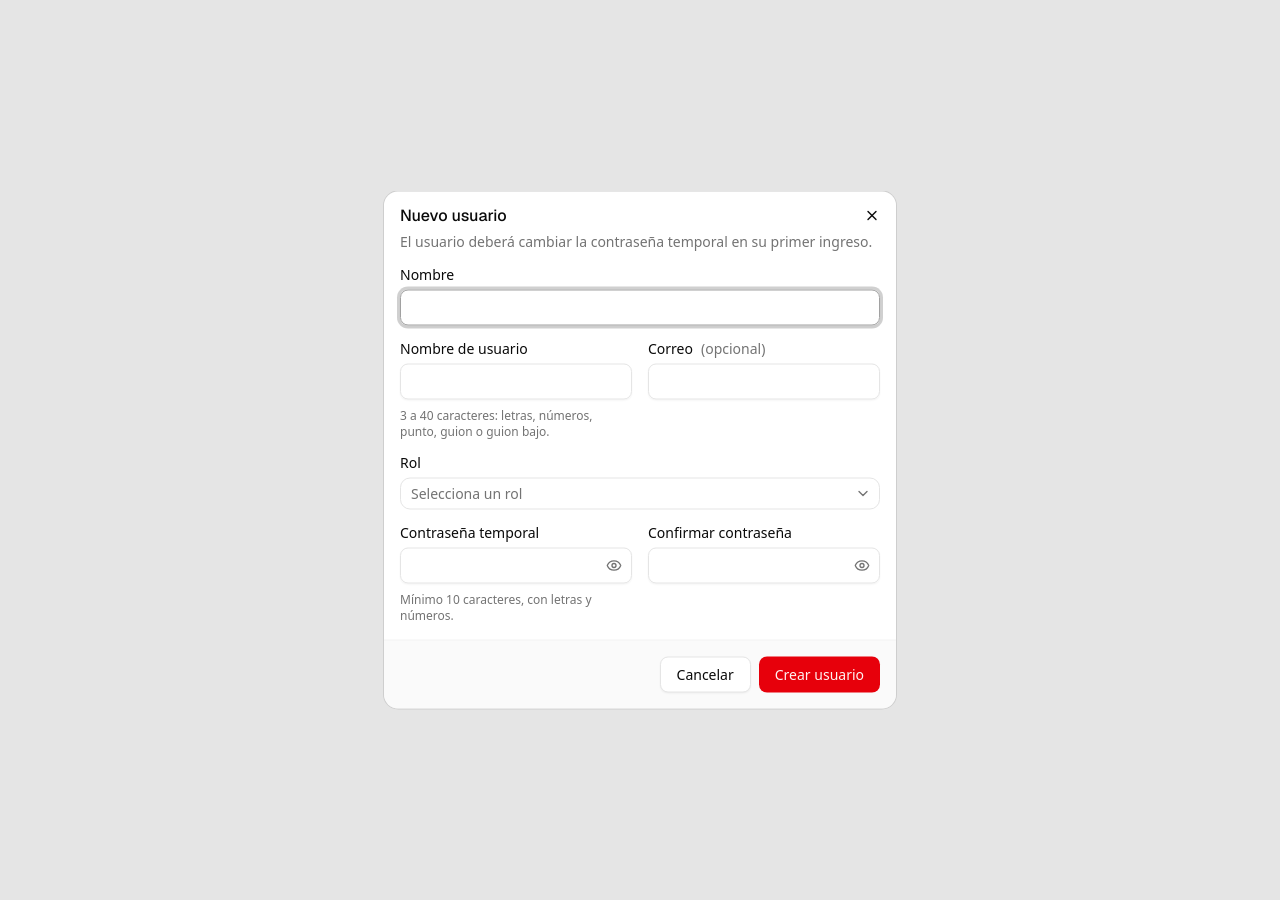
Scenario: UserFormDialog (US2, FR-008, FR-009, RN-013) › exige el rol
In the field labelled "Nombre": (640, 308) [400,290,880,326], type "Juan Pérez"
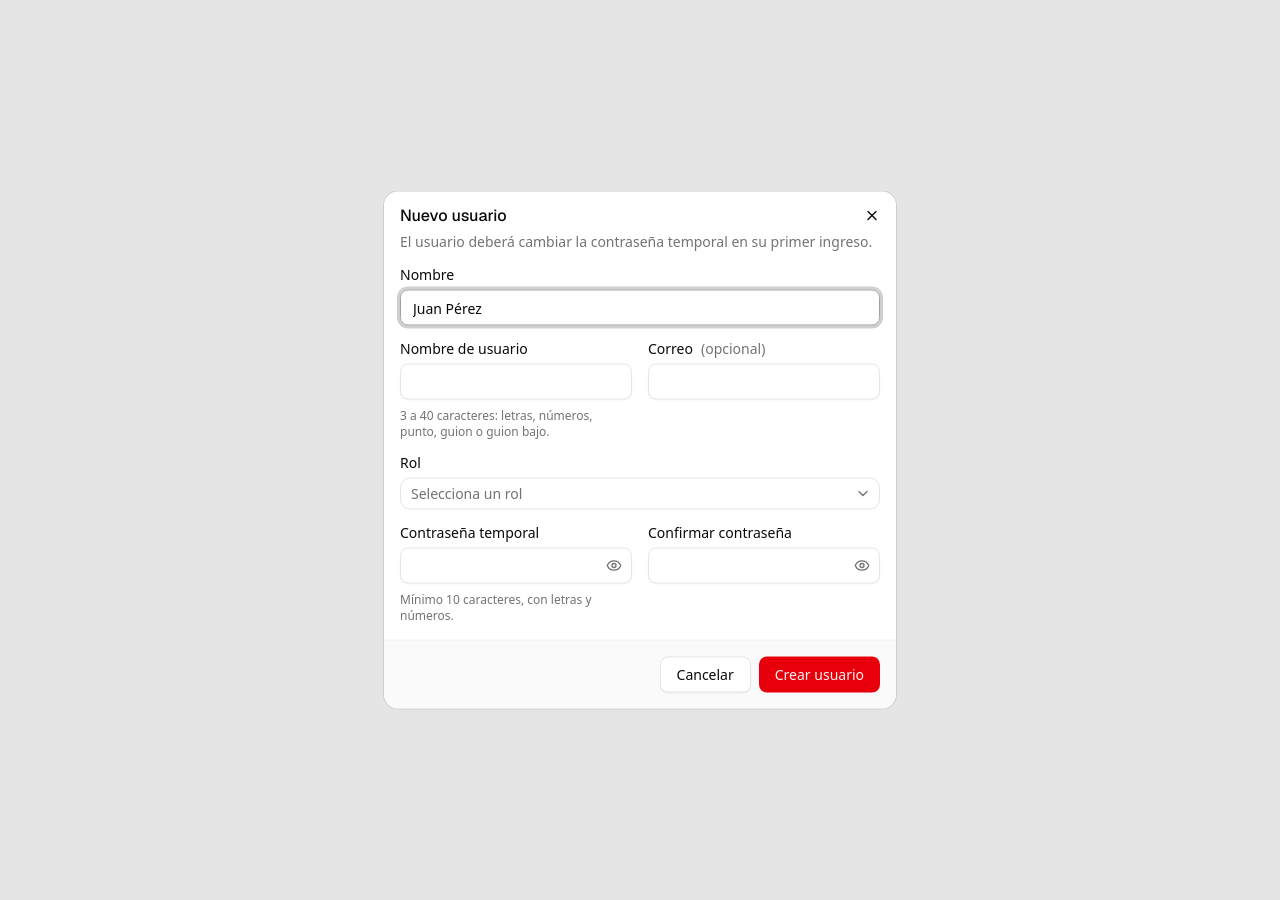
In the field labelled "Nombre de usuario": (516, 382) [400,364,632,400], type "jperez"
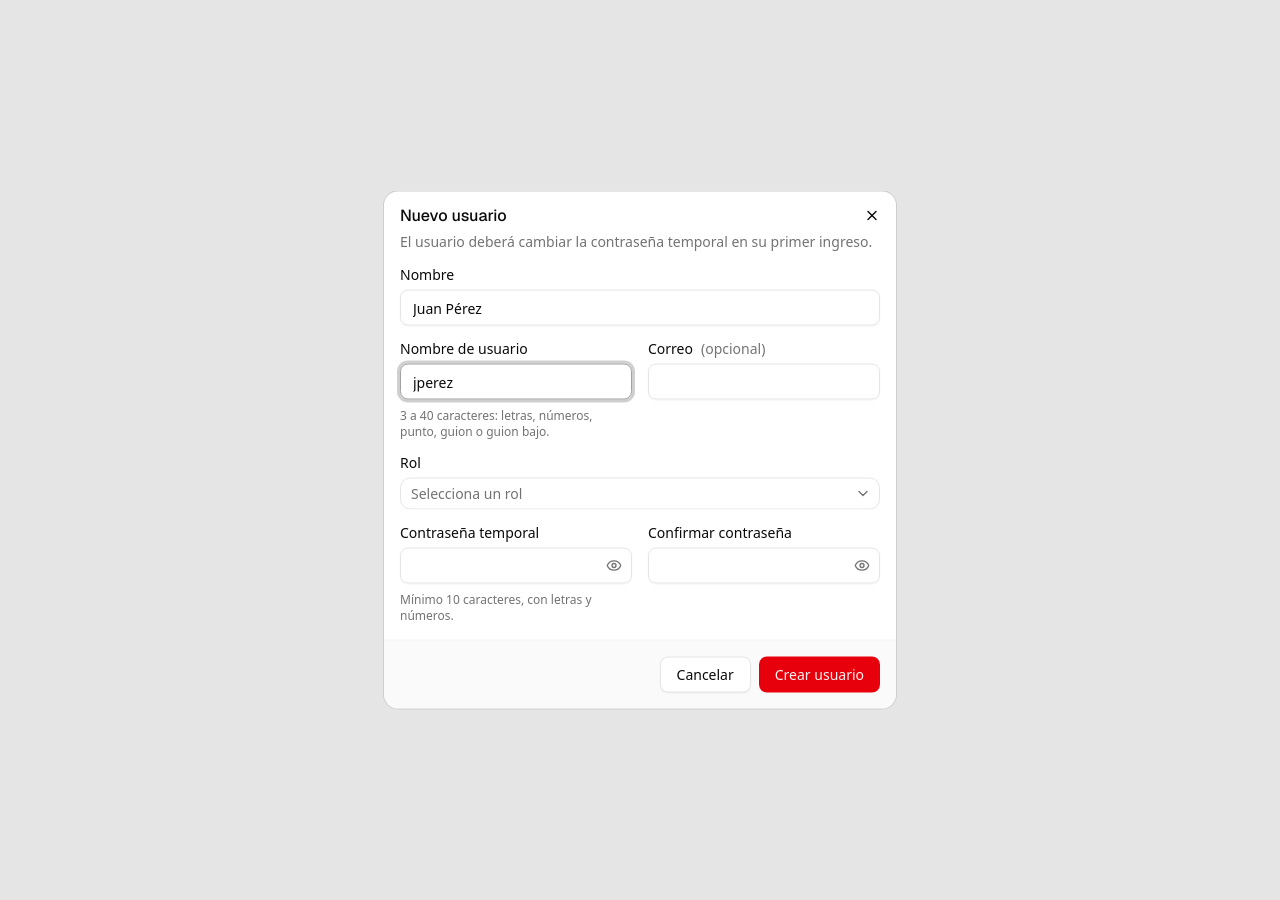
In the password field labelled "Contraseña temporal": (516, 566) [400,548,632,584], type "Temporal123"
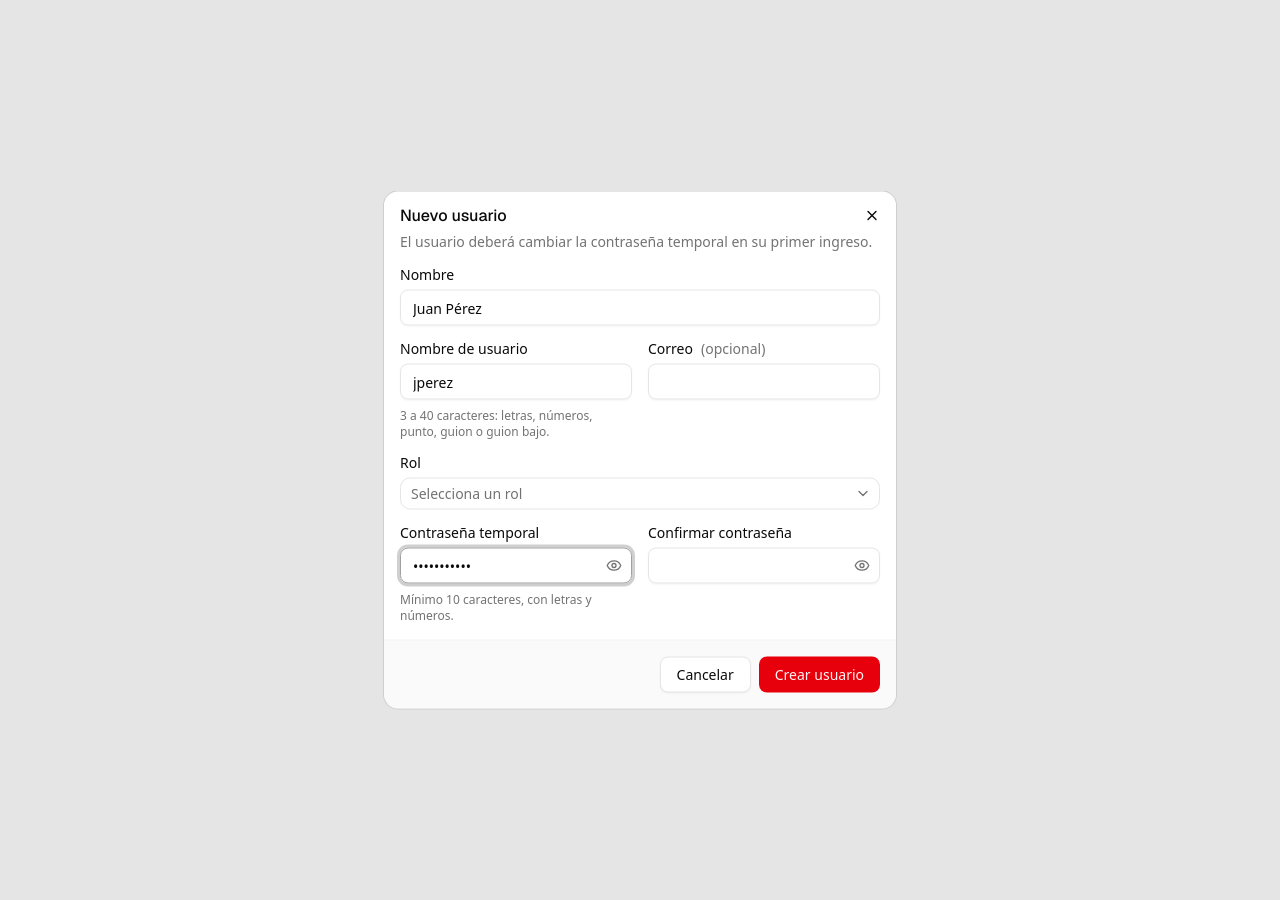
In the password field labelled "Confirmar contraseña": (764, 566) [648,548,880,584], type "Temporal123"
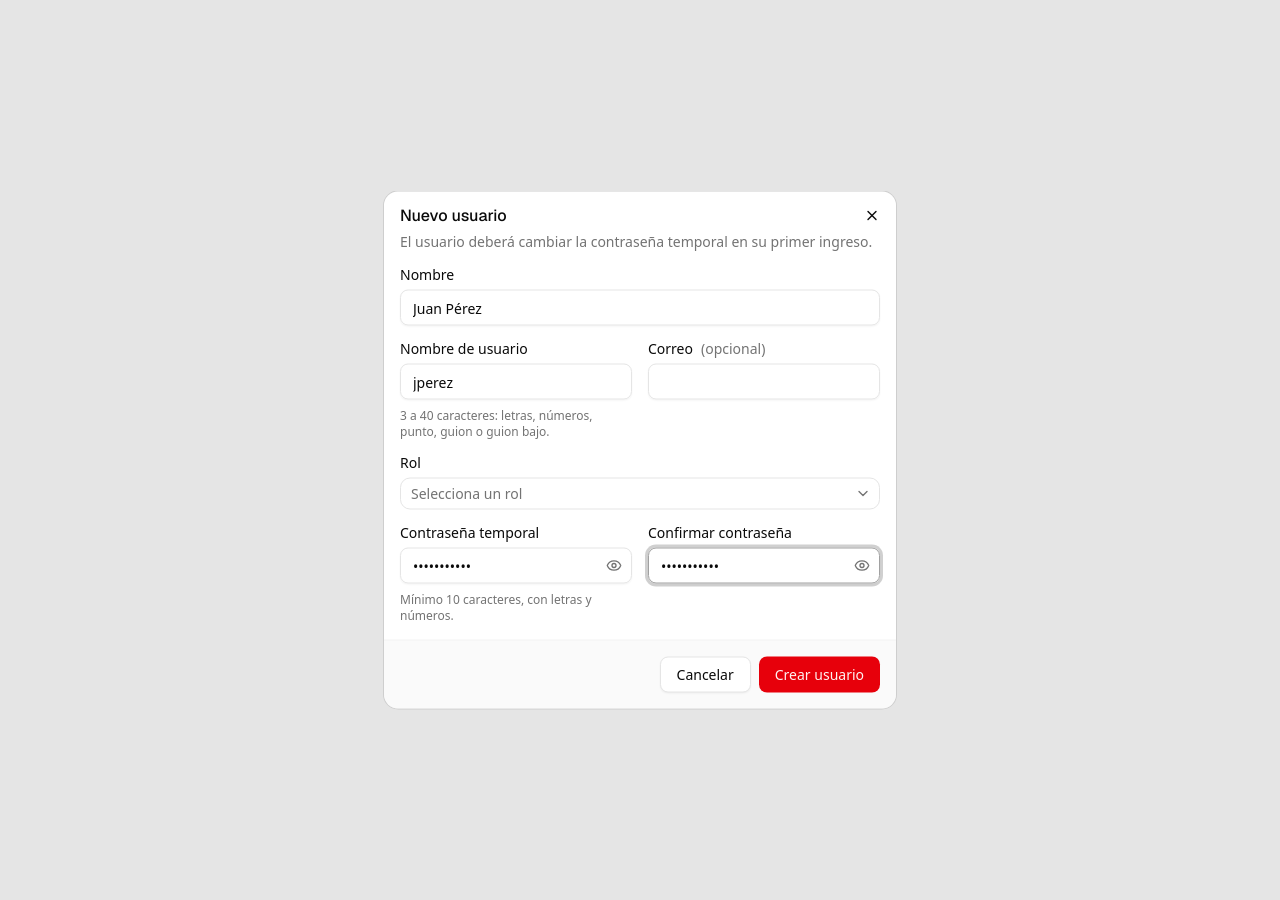
Click the button "Crear usuario": click(819, 674) [759,656,880,692]
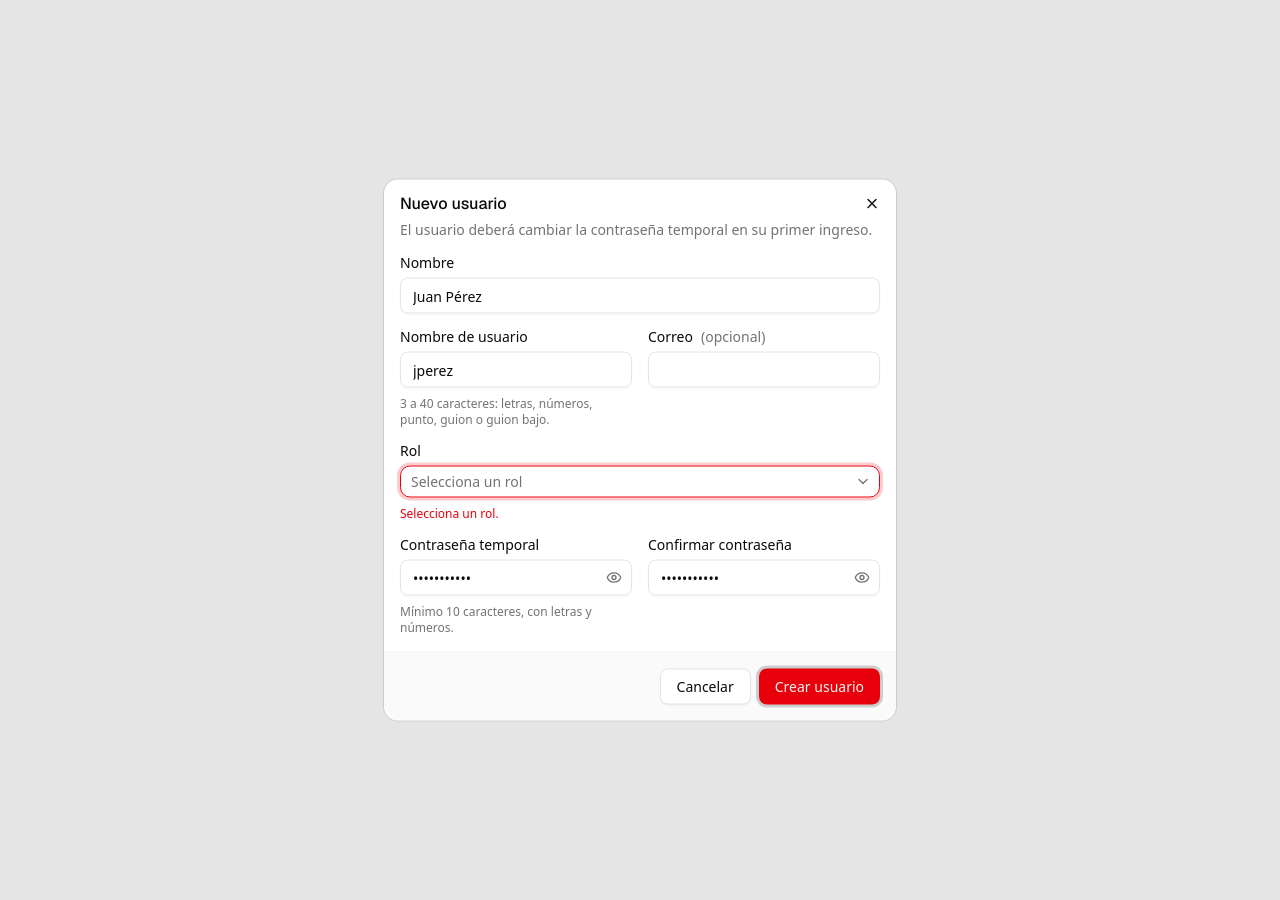
Check: the text "Selecciona un rol." is shown, box [400,504,499,522]
